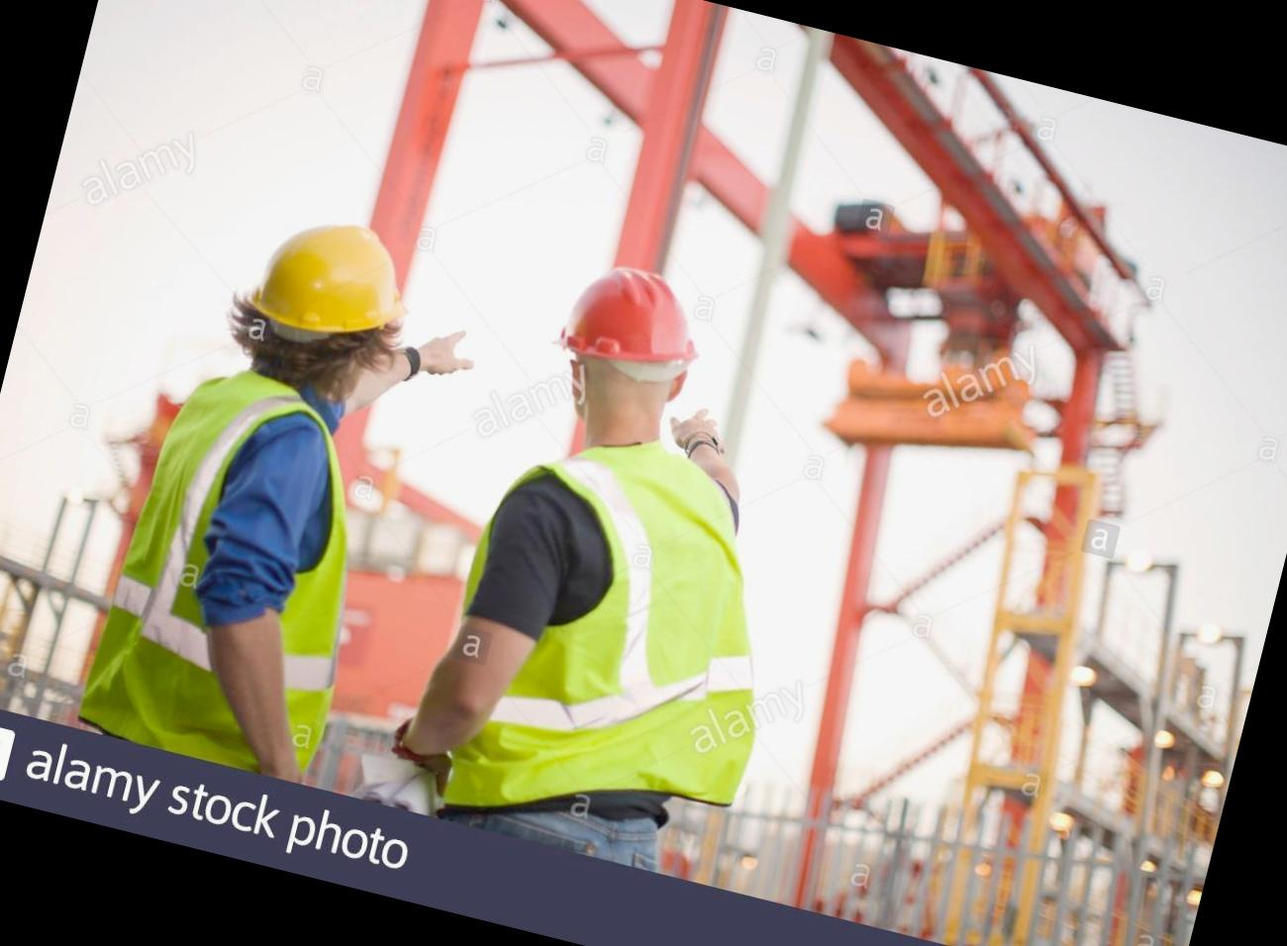helmet: (230, 195, 433, 365), (537, 247, 723, 390)
person: (382, 230, 876, 891), (66, 178, 473, 788)
